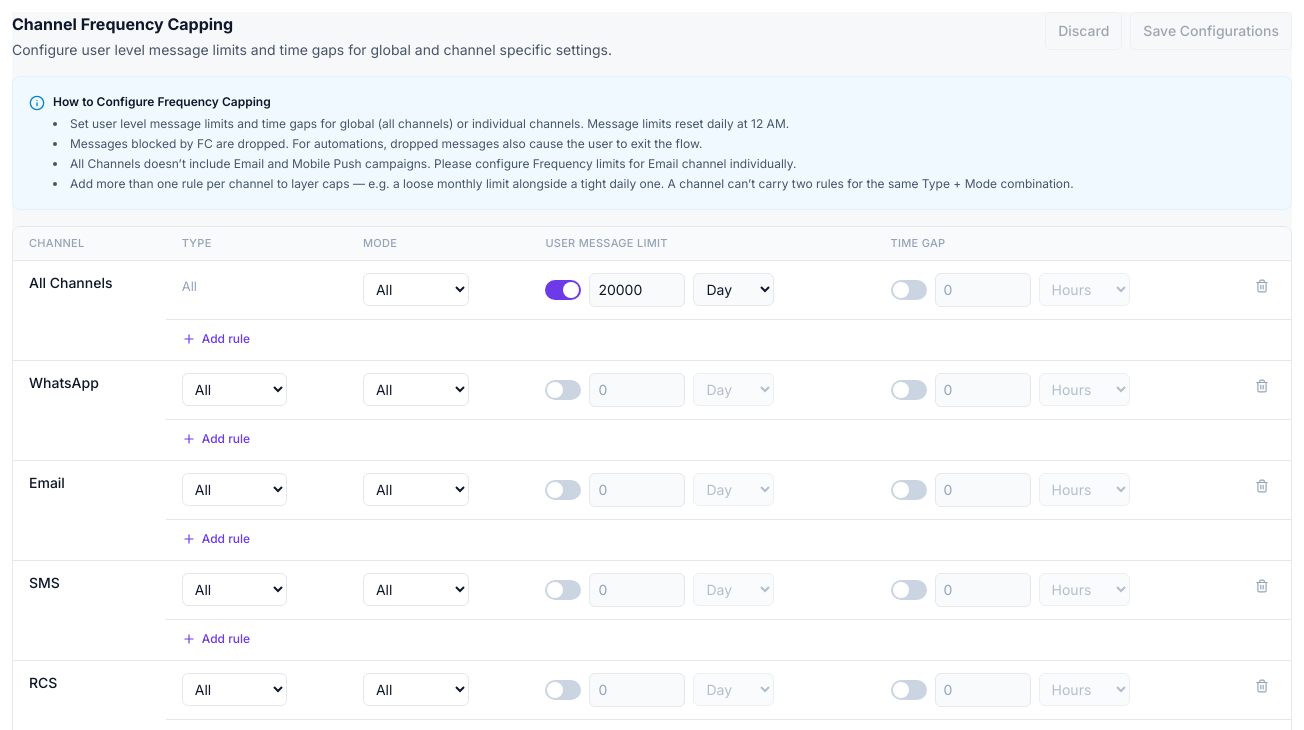
Test: FrequencyCappingTab › Add rule creates a second rule row for the same channel with a different time range
This screenshot has width=1304, height=730.
Click the button with test id "fc-channel-whatsapp-add-rule".
click(216, 438)  # box [182,430,250,448]
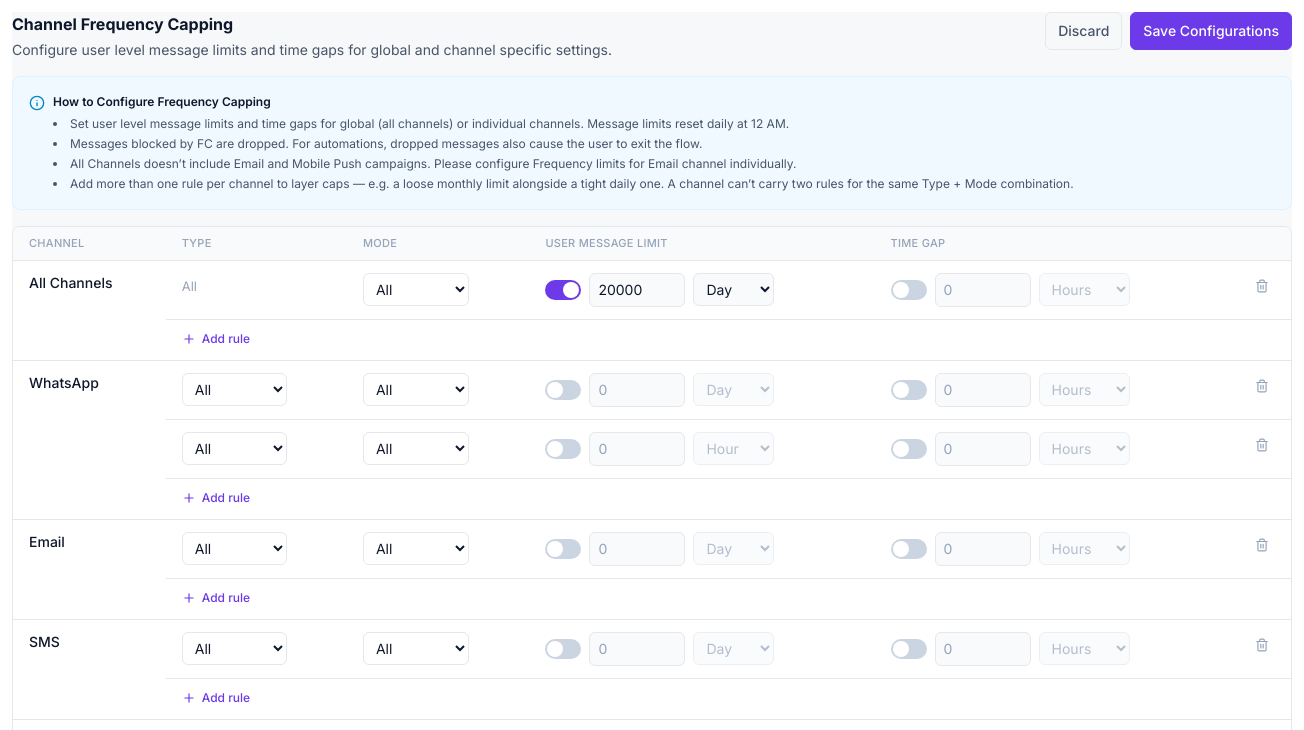
Expected: the row with test id "fc-rule-whatsapp__All__All__Day" is shown, [13,360,1291,419]
Result: the row with test id "fc-rule-whatsapp__All__All__Hour" is shown at [13,419,1291,478]
